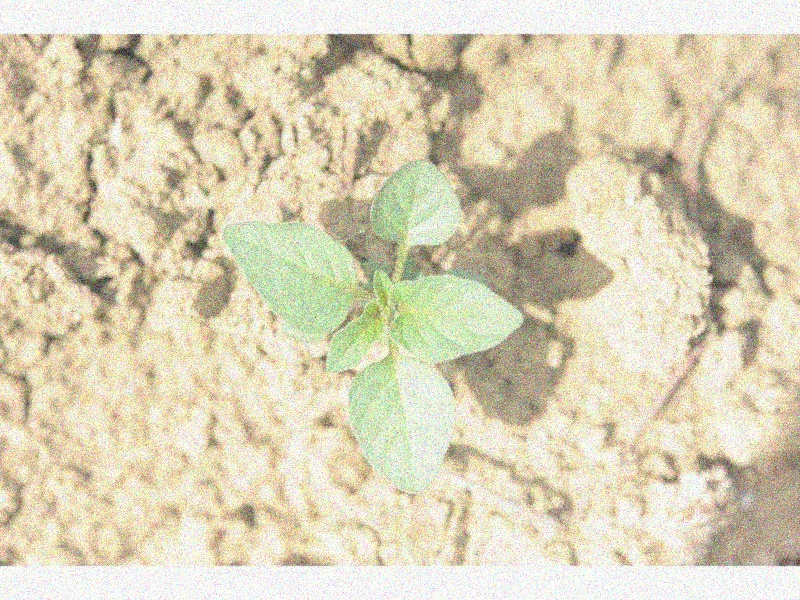nightshade: (222, 156, 522, 494)
